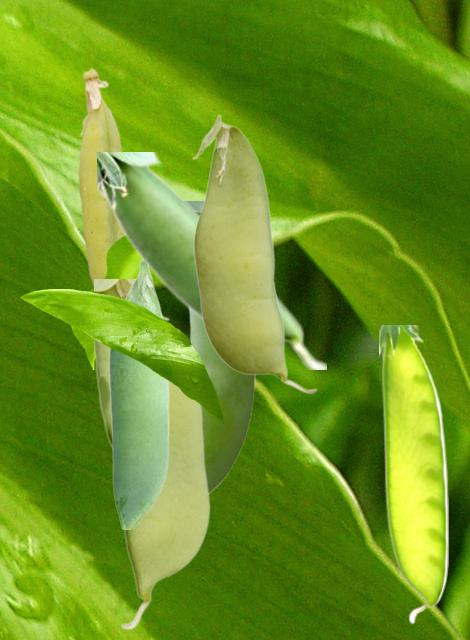pea: (97, 152, 325, 368), (94, 279, 209, 629), (191, 114, 317, 393), (379, 325, 447, 623), (188, 201, 254, 494), (108, 261, 168, 528), (78, 67, 123, 287)
